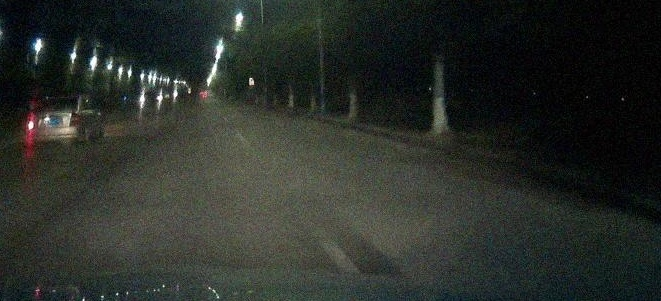L_light: (27, 117, 37, 130)
R_light: (68, 112, 80, 127)
T_light: (53, 97, 66, 100)
night-left: (26, 95, 81, 145)
